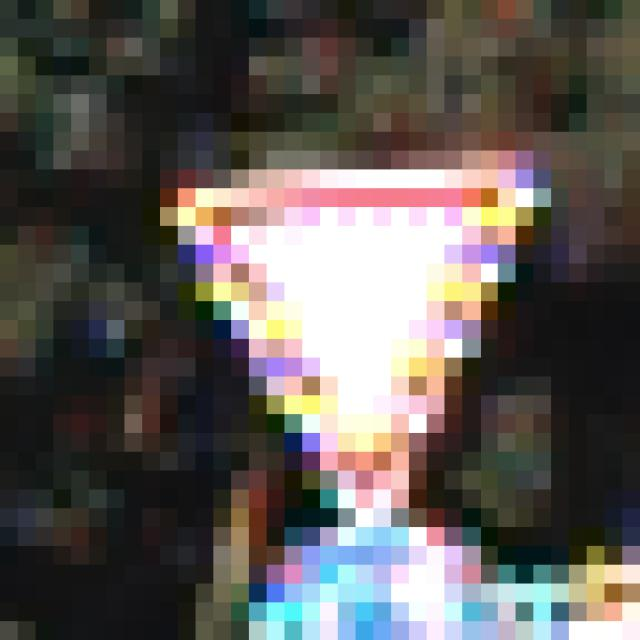Give Way: (108, 95, 552, 547)
